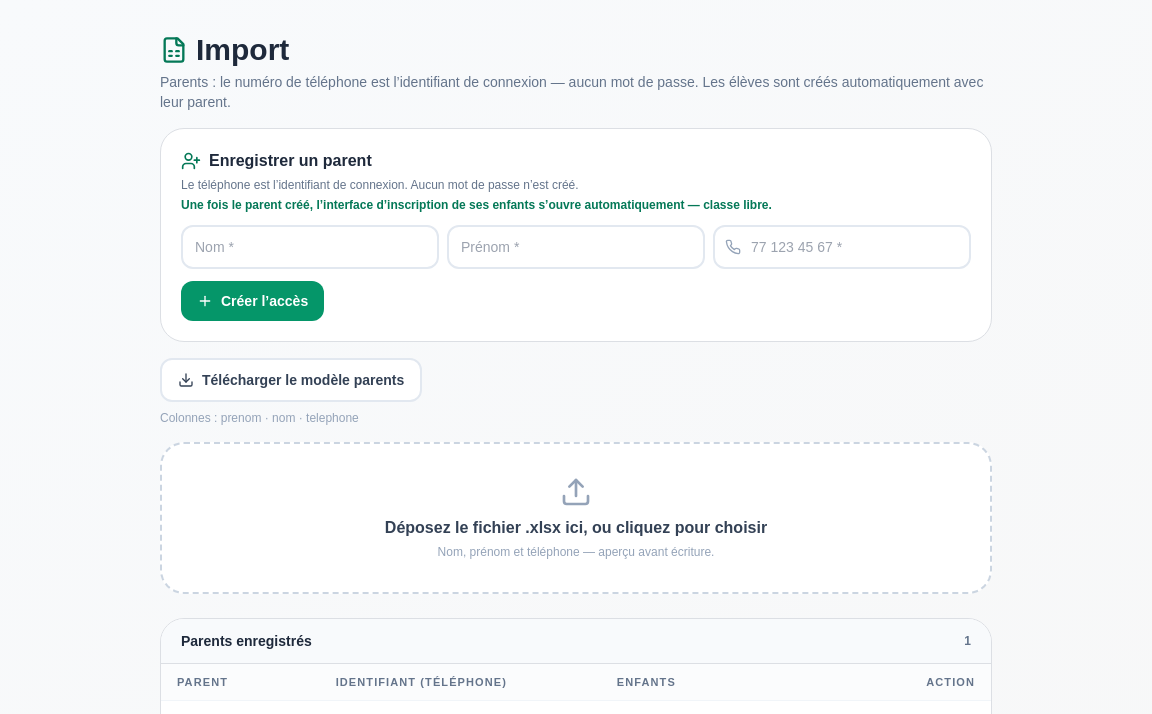
Scenario: Import Parent — interface d’inscription des enfants › un doublon (parent déjà actif) n’ouvre PAS l’interface automatique
This screenshot has width=1152, height=714.
Type "Fall" into the field with placeholder "Nom *" at (310, 247), box 181,225 -> 439,269
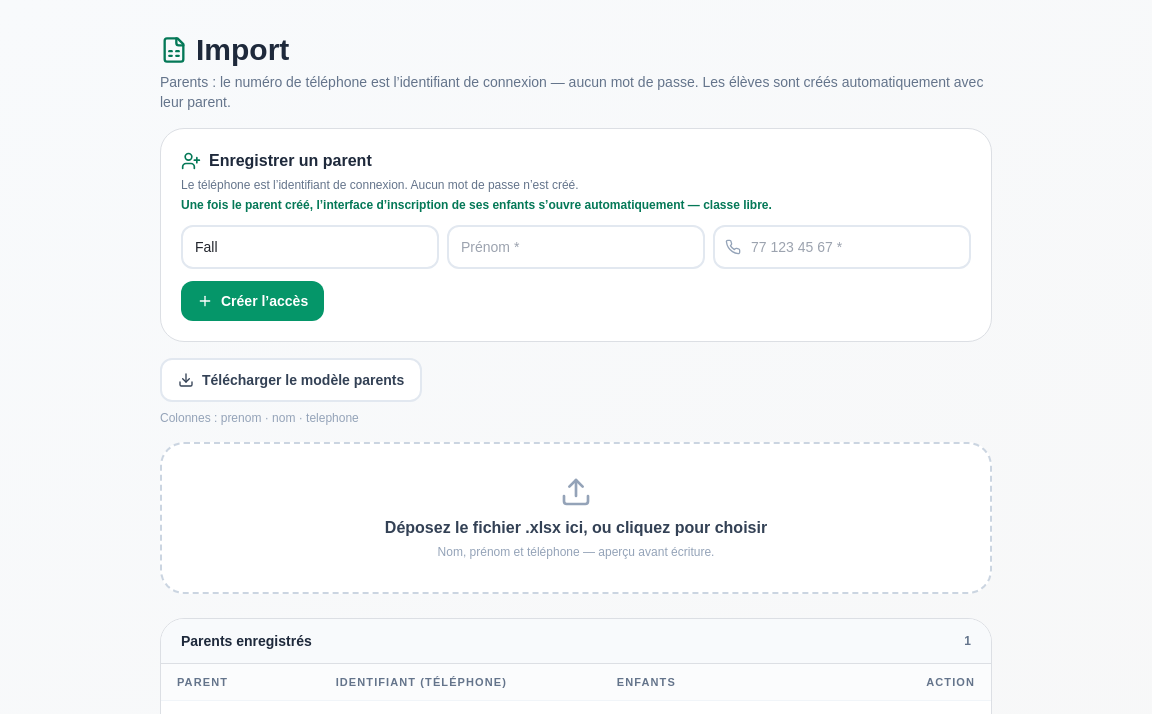
Type "Aminata" into the field with placeholder "Prénom *" at (576, 247), box 447,225 -> 705,269
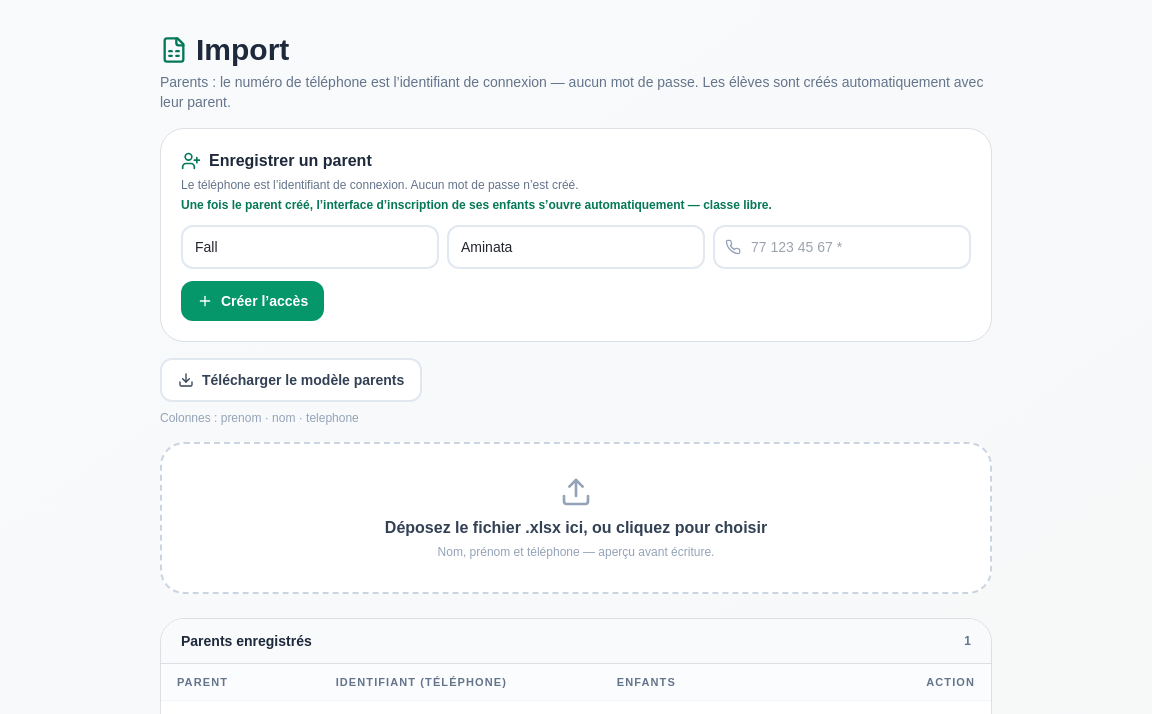
Type "776 000 00 1" into the field with placeholder "77 123 45 67 *" at (842, 247), box 713,225 -> 971,269
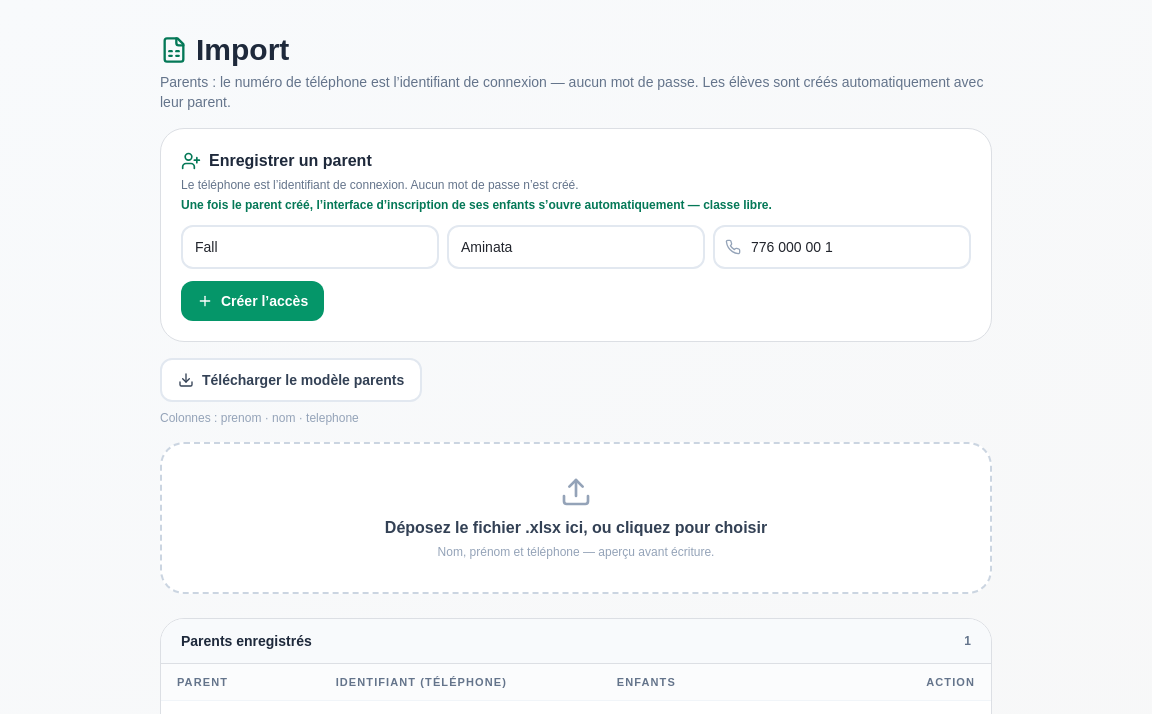
Click the button "Créer l’accès" at (253, 301), box 181,281 -> 324,321
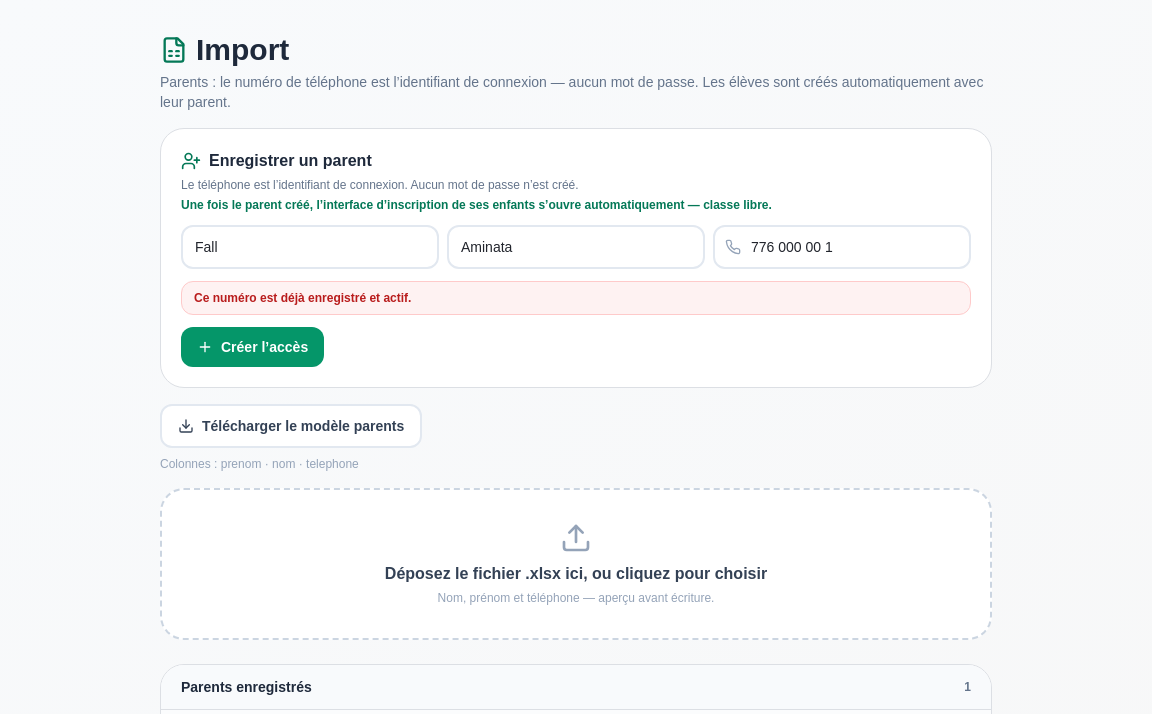
Now the text "Ce numéro est déjà enregistré et actif." is shown, box 181,281 -> 971,315
